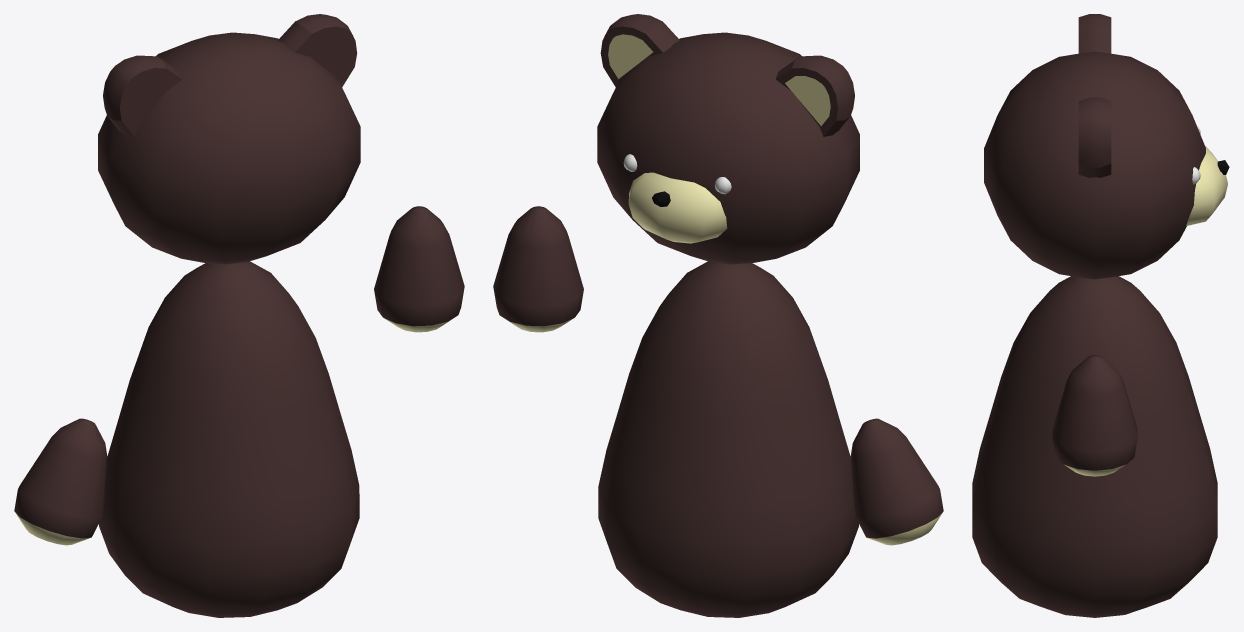
File: FBX_BEAR_J2.fbx
The picture shows the model from 3 angles, left to right: view 1: azimuth 30°, elevation 25°; view 2: azimuth 150°, elevation 25°; view 3: azimuth 270°, elevation 25°; orthographic projection. The views are drawn at different scales.
Parts seen in each view (by area): view 1: pSphere7, BEAR_HEAD, pSphere9, pSphere8; view 2: pSphere7, BEAR_HEAD, pSphere9, pSphere8; view 3: pSphere7, BEAR_HEAD, pSphere8.
Boxes of the visible parts, <box> form: pSphere7: <box>99,261,359,617</box>; BEAR_HEAD: <box>98,14,360,264</box>; pSphere9: <box>14,418,107,545</box>; pSphere8: <box>374,206,464,332</box>; pSphere7: <box>598,261,858,617</box>; BEAR_HEAD: <box>597,14,859,264</box>; pSphere9: <box>850,418,943,545</box>; pSphere8: <box>493,206,583,332</box>; pSphere7: <box>972,276,1217,617</box>; BEAR_HEAD: <box>984,14,1229,279</box>; pSphere8: <box>1052,355,1137,476</box>.
Size of the model in its own units: 60.31 by 73.97 by 31.8.
